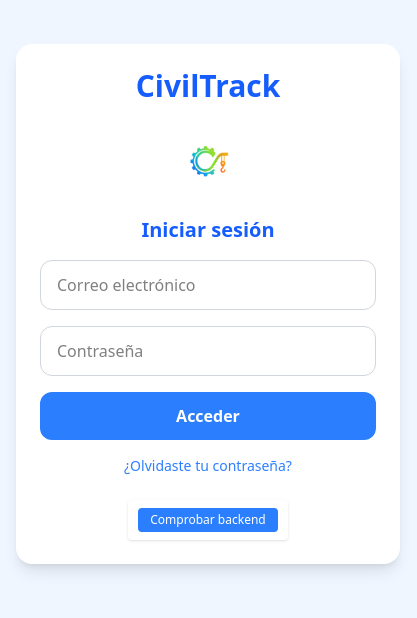
Scenario: Login CivilTrack › rechaza un correo con formato inválido
The image size is (417, 618).
Type "correo-mal-escrito" into the field with test id "login-email".
click(208, 285); type("correo-mal-escrito")  # box [40,260,376,310]
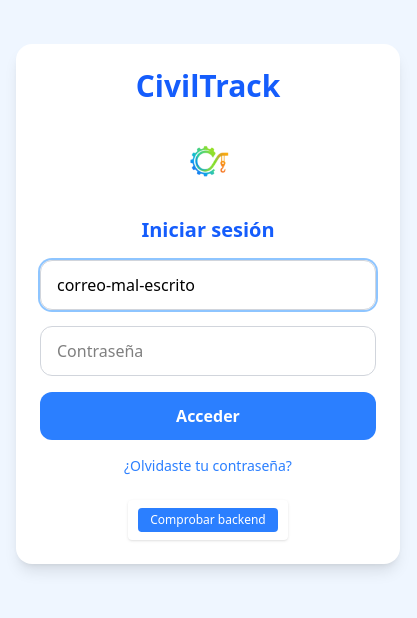
Type "123456" into the password field with test id "login-password".
click(208, 351); type("123456")  # box [40,326,376,376]
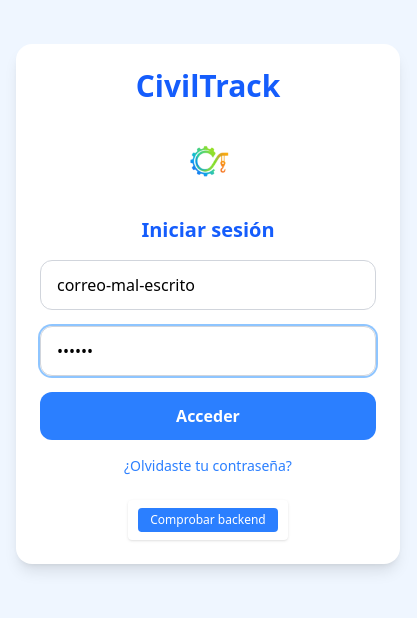
Click the button with test id "login-submit".
click(208, 416)  # box [40,392,376,440]
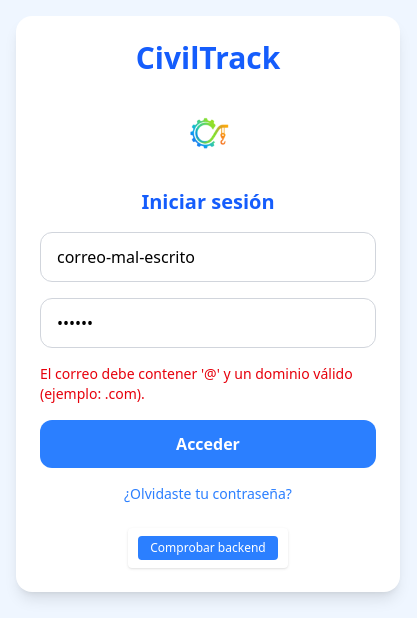
Check: the text with test id "login-error" shows "correo", box [40,364,376,404]
